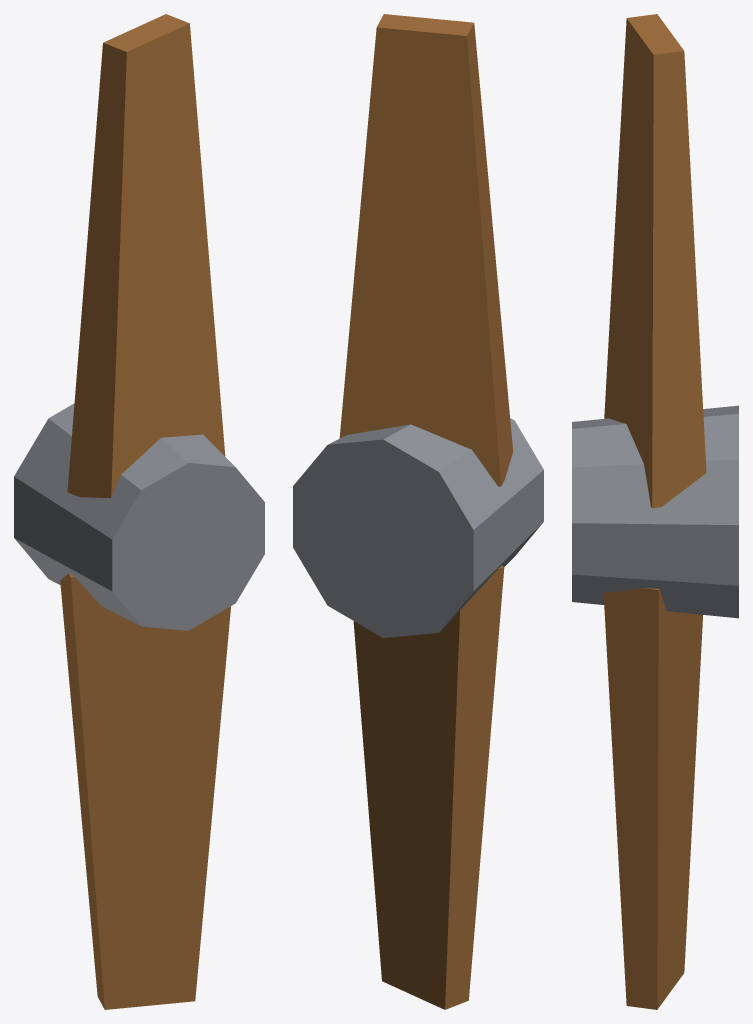
Rendered from propeller.glb.
3 renders of one model, left to right at view 1: azimuth 30°, elevation 25°; view 2: azimuth 150°, elevation 25°; view 3: azimuth 270°, elevation 25°, orthographic.
Visible parts, largest first — view 1: prop_blade_0, prop_blade_1, prop_hub; view 2: prop_blade_0, prop_blade_1, prop_hub; view 3: prop_blade_0, prop_blade_1, prop_hub.
Boxes of the visible parts, x1,y1,x2,y2 form: prop_blade_0: (67,14,225,498); prop_blade_1: (60,573,230,1009); prop_hub: (14,403,264,630); prop_blade_0: (339,14,513,486); prop_blade_1: (353,565,504,1009); prop_hub: (293,418,543,637); prop_blade_0: (604,14,706,508); prop_blade_1: (603,588,702,1009); prop_hub: (572,405,738,618).
Size of the model in its own units: 0.2473 by 1.26 by 0.2.
